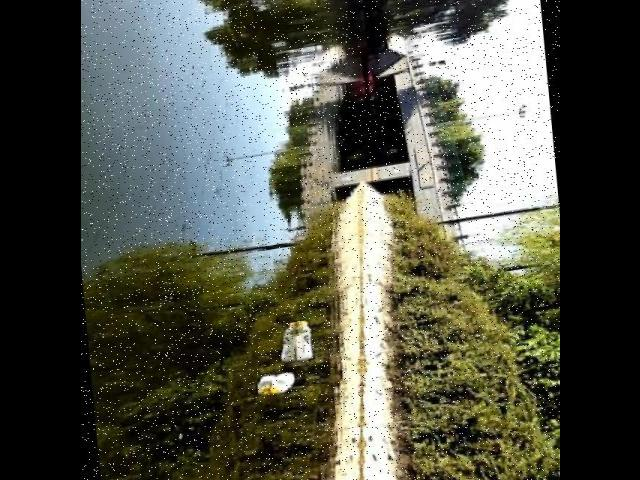Bottle: (292, 314, 318, 366), (264, 368, 296, 399)
